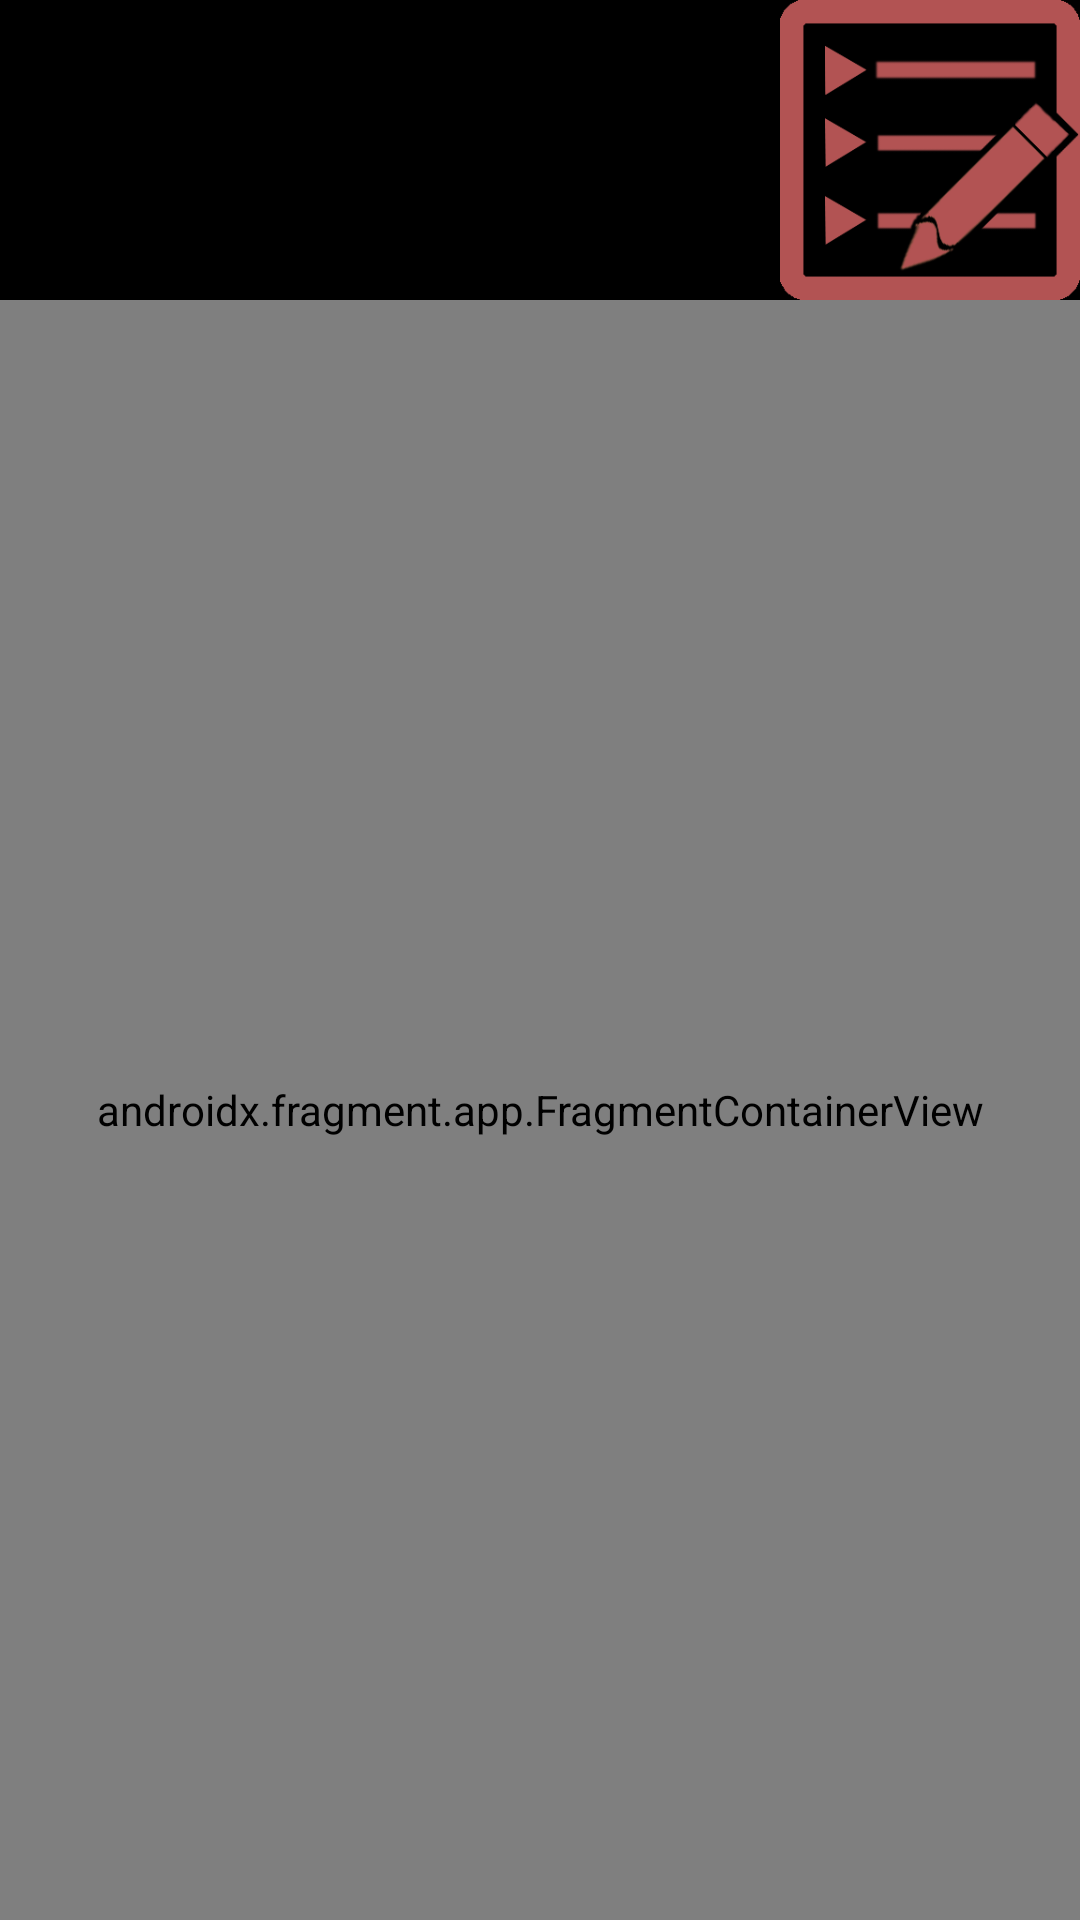

Point at icon controls on the screen. Image size 1080×1920, points as (x=x, y=y).
edit factors: (x=930, y=150)
